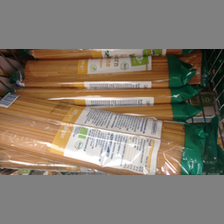pasta: (1, 92, 217, 174), (17, 59, 195, 86)
